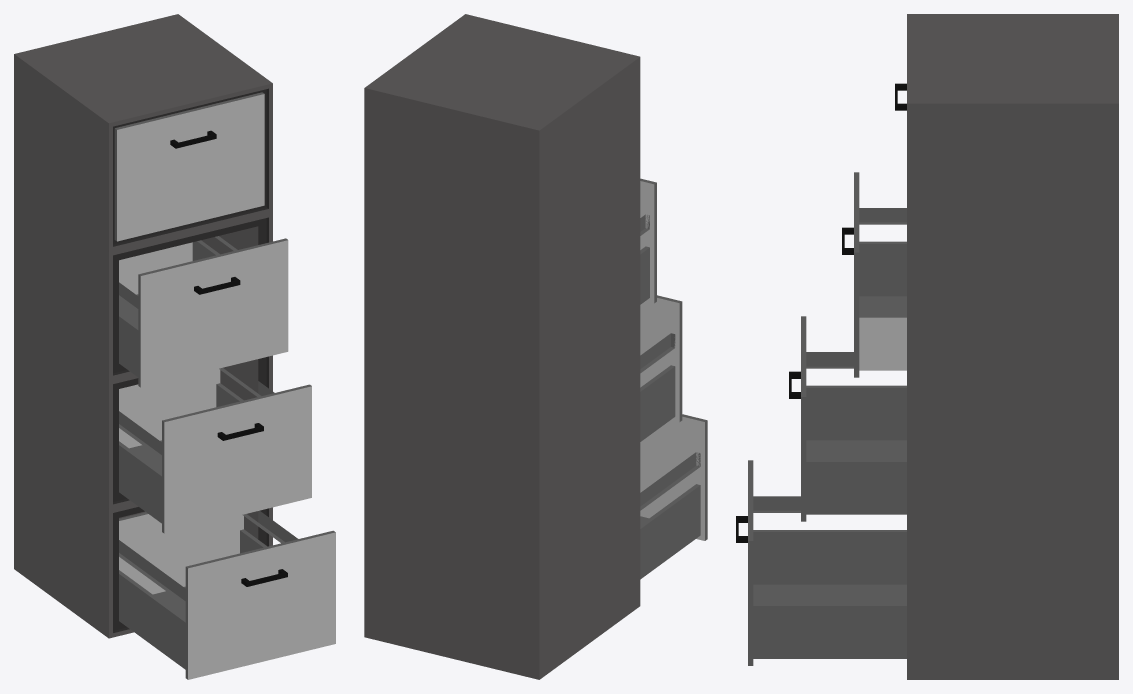
Rendered from newcab.glb.
3 views of the same model, side by side, from view 1: azimuth 30°, elevation 25°; view 2: azimuth 150°, elevation 25°; view 3: azimuth 270°, elevation 25° (orthographic). The views are drawn at different scales.
Visible parts, largest first — view 1: FileCabinet, 01_Material_0, 02_Material_0, 03_Material_0, 04_Material_0; view 2: FileCabinet, 01_Material_0, 02_Material_0, 03_Material_0; view 3: FileCabinet, 01_Material_0, 02_Material_0, 03_Material_0.
Part boxes in pixels (x1,y1,x2,y2): FileCabinet: [14, 14, 272, 638]; 01_Material_0: [119, 510, 335, 679]; 02_Material_0: [119, 367, 311, 533]; 03_Material_0: [119, 236, 288, 387]; 04_Material_0: [114, 92, 264, 241]; FileCabinet: [364, 14, 640, 679]; 01_Material_0: [640, 414, 707, 579]; 02_Material_0: [640, 295, 682, 441]; 03_Material_0: [640, 178, 656, 304]; FileCabinet: [907, 14, 1118, 679]; 01_Material_0: [736, 460, 906, 665]; 02_Material_0: [789, 316, 906, 521]; 03_Material_0: [842, 172, 906, 377].
Size of the model in its own units: 0.4 by 1.2 by 0.7225.
5 materials, 5 textured.
